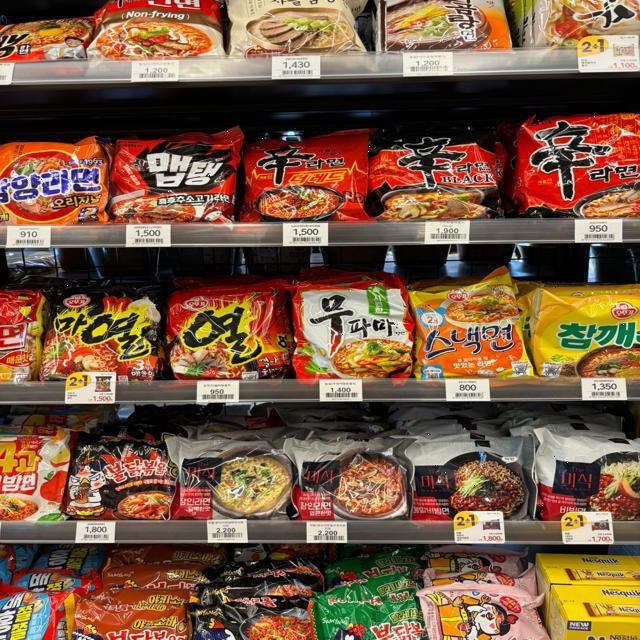product: (241, 126, 370, 231), (112, 124, 233, 229), (377, 123, 502, 222), (294, 277, 409, 381), (43, 283, 160, 385), (523, 113, 635, 219), (414, 279, 527, 379), (171, 285, 284, 385), (410, 433, 534, 519), (294, 438, 410, 521), (177, 441, 292, 522), (537, 432, 640, 520), (3, 143, 107, 227), (542, 287, 640, 372), (74, 439, 177, 519)
